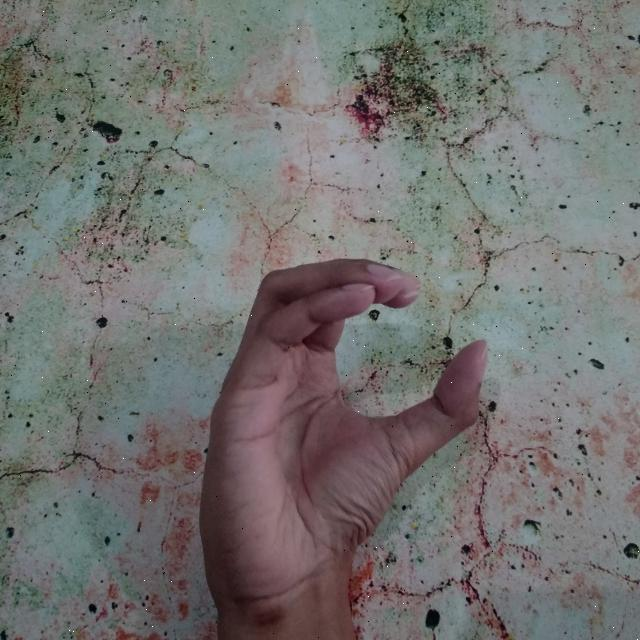C: (198, 254, 493, 640)
